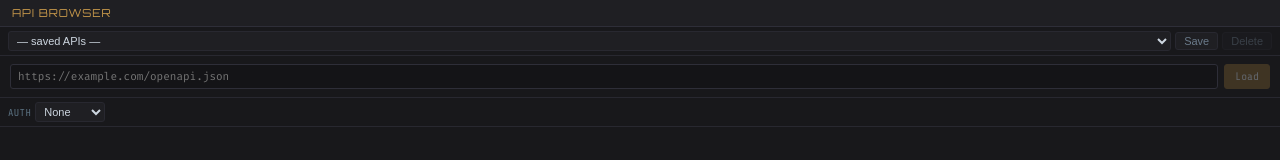
Test: AuthConfig UI › shows name/value/in inputs when apikey is selected
Select "API Key" in the dropdown showing "None" next to "Auth" at (70, 112), box [35, 102, 105, 122]
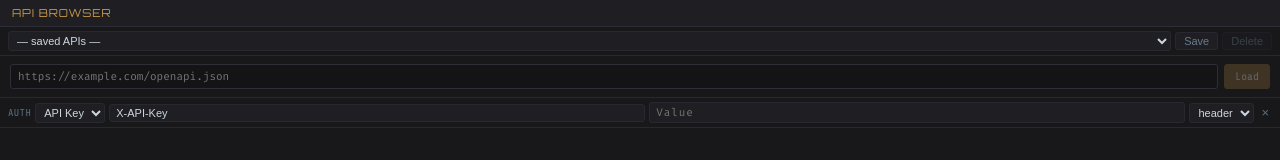
Check: the field with placeholder "Header / param name" is shown, box [109, 104, 645, 122]
Check: the password field with placeholder "Value" is shown, box [649, 102, 1185, 123]
Check: the 3rd dropdown showing "header" is shown, box [1189, 102, 1254, 122]
